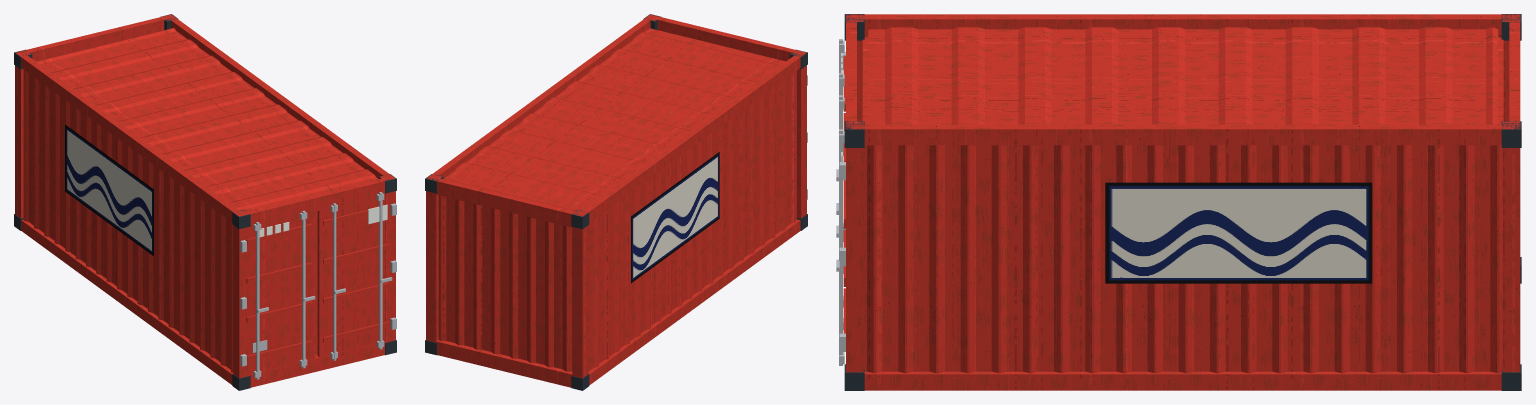
Rendered from container_red.glb.
The picture shows the model from 3 angles, left to right: view 1: azimuth 30°, elevation 25°; view 2: azimuth 150°, elevation 25°; view 3: azimuth 270°, elevation 25°; orthographic projection. The views are drawn at different scales.
Parts seen in each view (by area): view 1: harbor_container_red; view 2: harbor_container_red; view 3: harbor_container_red.
Part boxes in pixels (<box>): harbor_container_red: <box>14,14,396,390</box>; harbor_container_red: <box>425,14,807,390</box>; harbor_container_red: <box>836,14,1521,390</box>.
Bounding box in the file's own units: 2.46 × 2.59 × 6.15.
6 materials, 3 textured.
